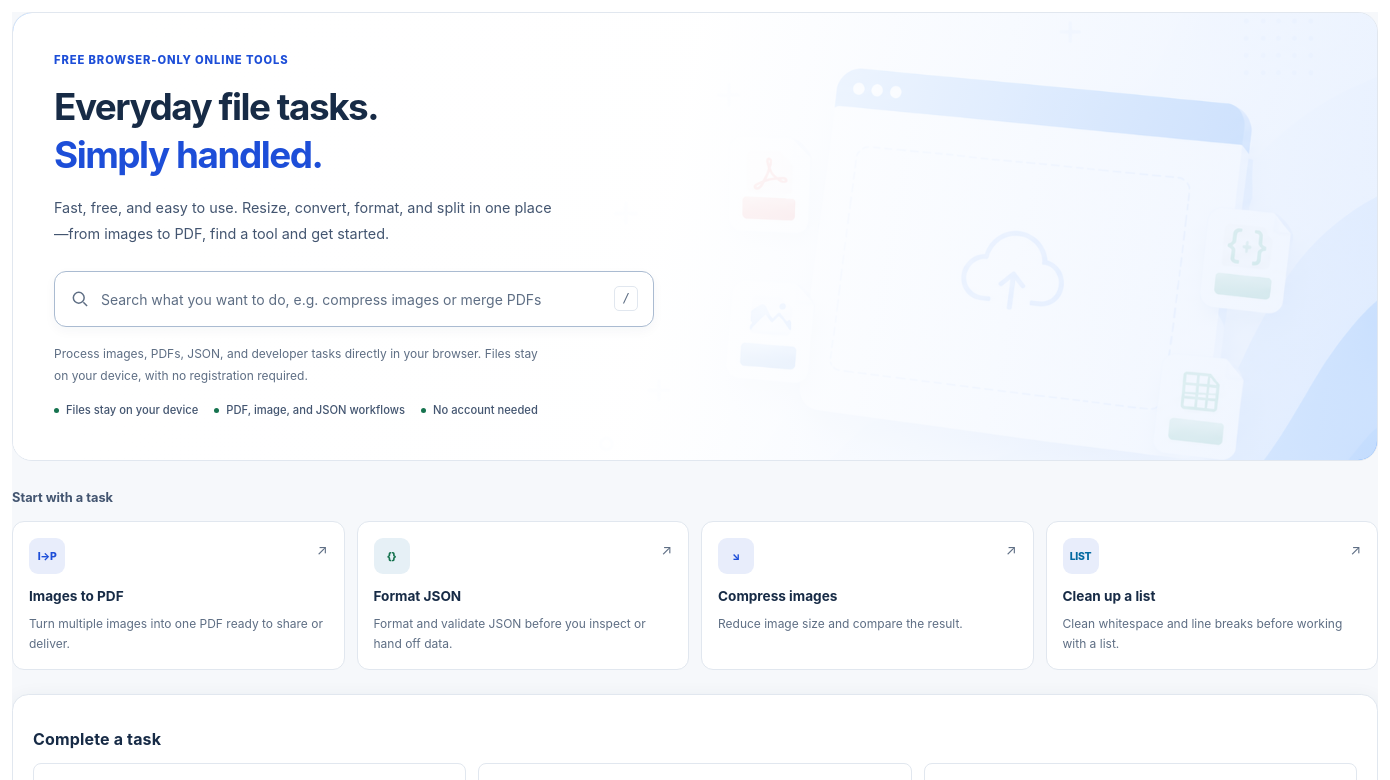
Test: HomePage task-first hierarchy › compresses supporting homepage content while a keyword search is active
Replace the text in the field named "Search Tools" with "json": (354, 299) [54, 271, 654, 327]
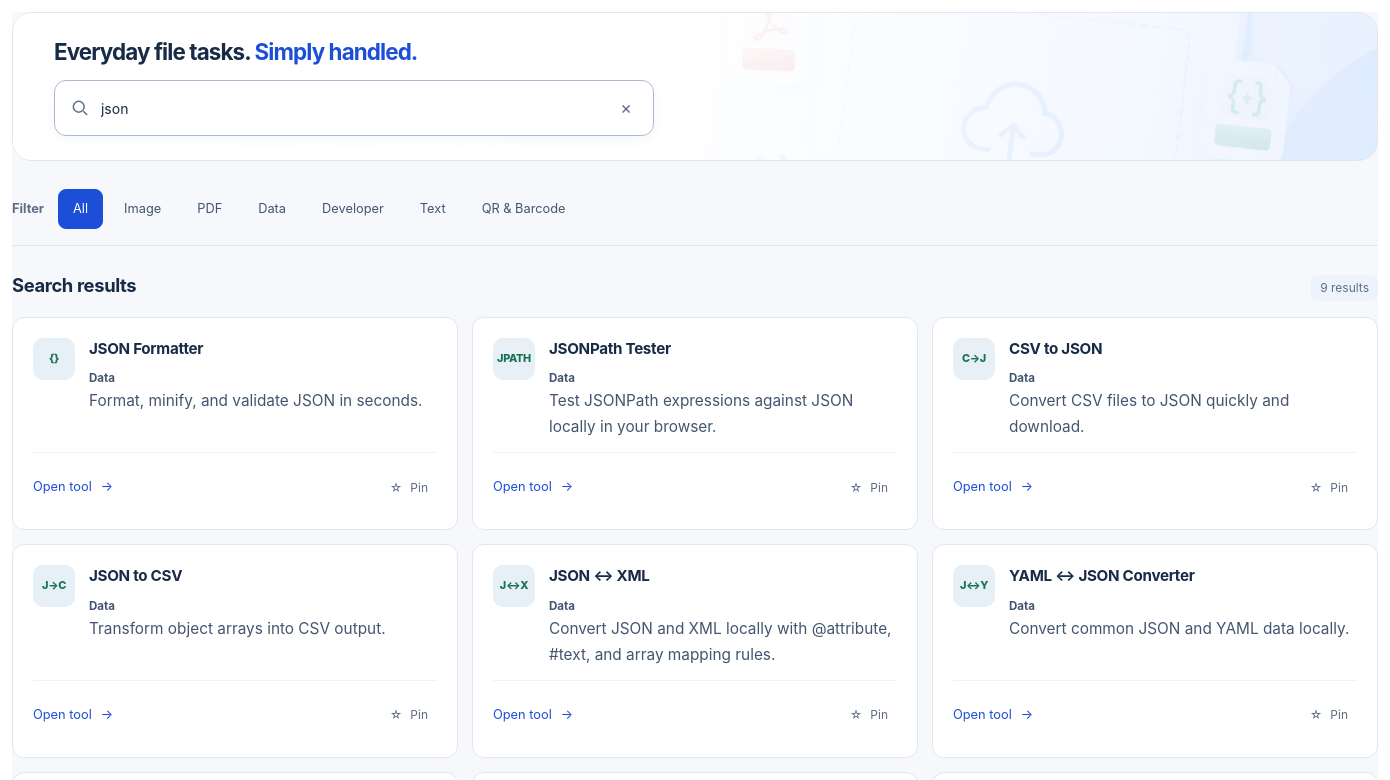
Expected: the heading "Everyday file tasks. Simply handled." is shown, [54, 38, 418, 65]
Expected: the text "Resize, convert, format, and split" is gone
Expected: the heading "Search results" is shown, [12, 272, 136, 299]
